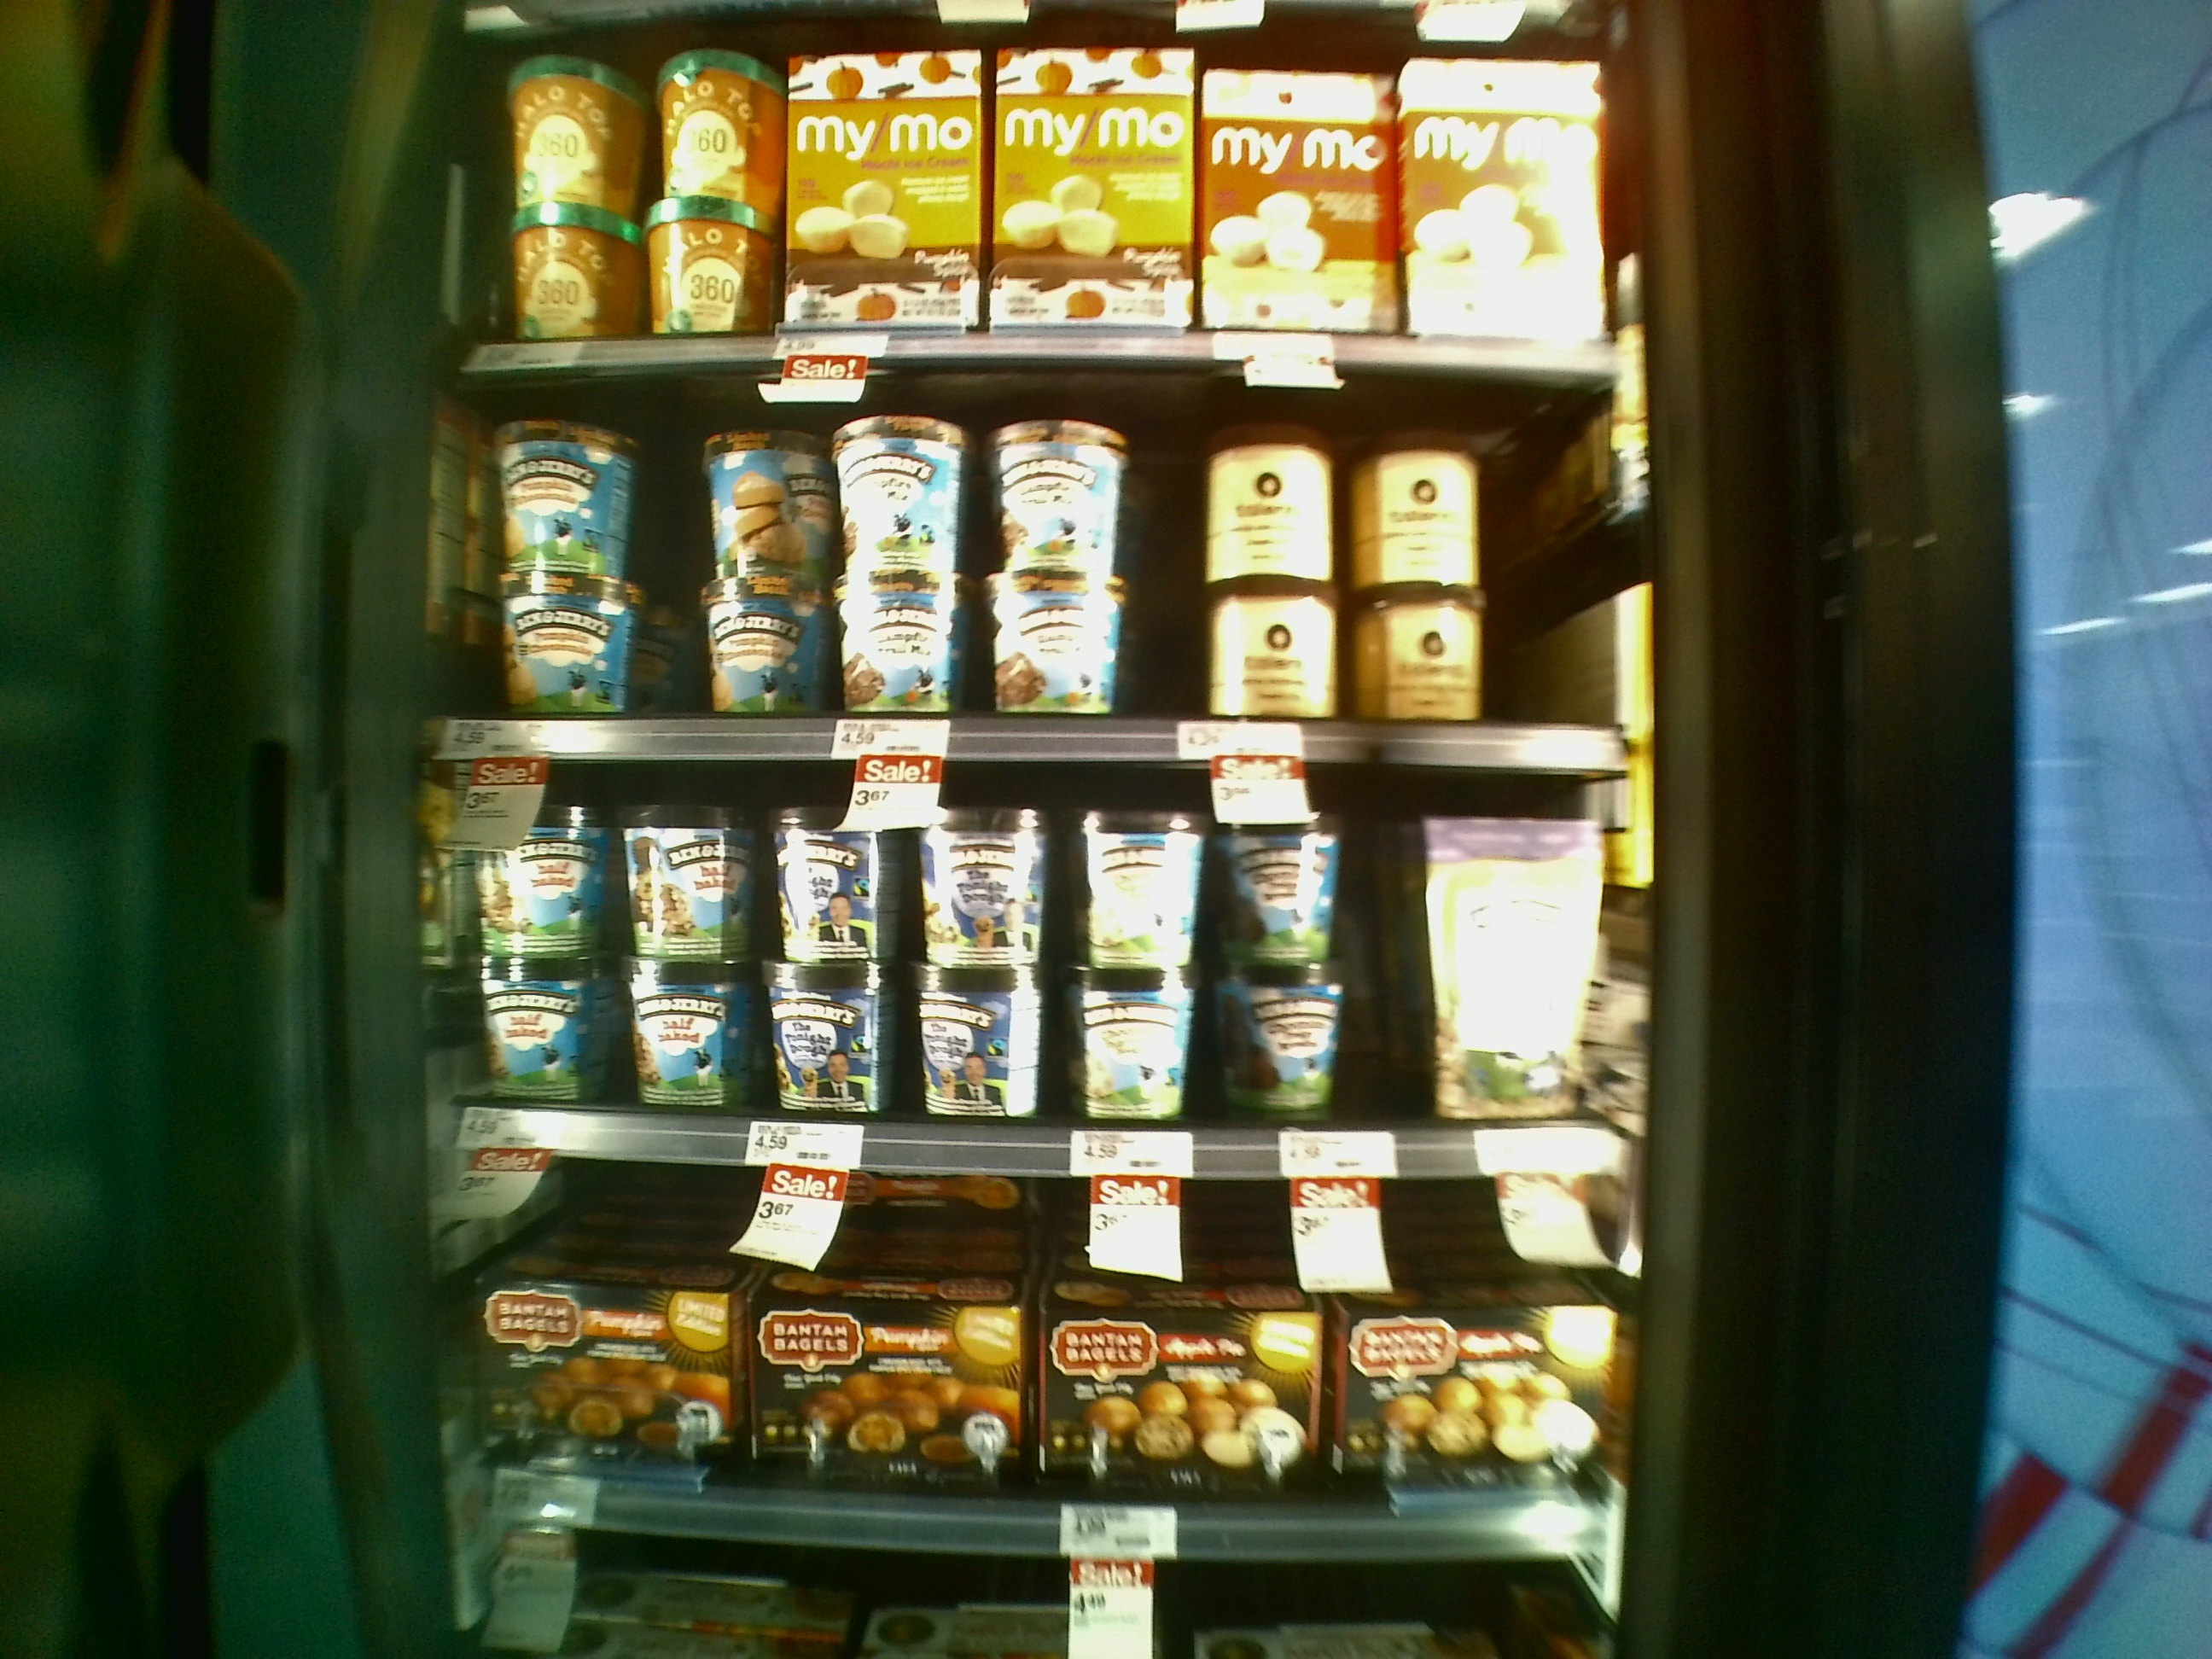shelf: (415, 730, 1646, 1164), (439, 1124, 1620, 1554), (441, 357, 1627, 746)
